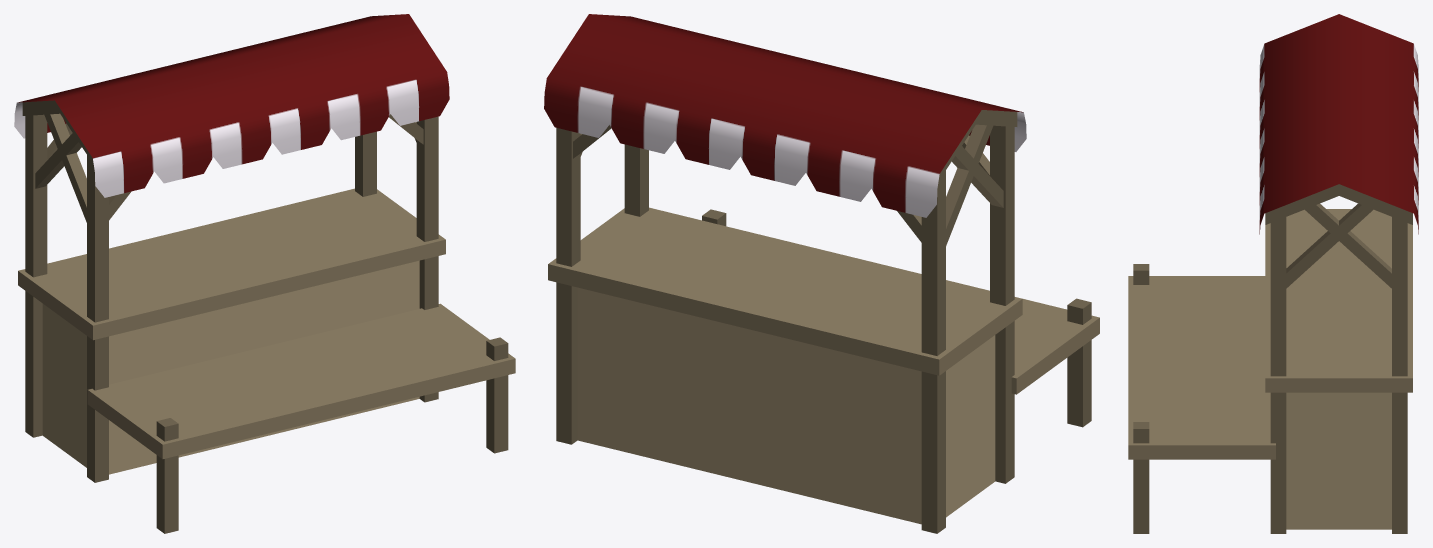
Rendered from VeggieStall.fbx.
The picture shows the model from 3 angles, left to right: view 1: azimuth 30°, elevation 25°; view 2: azimuth 150°, elevation 25°; view 3: azimuth 270°, elevation 25°; orthographic projection. The views are drawn at different scales.
Visible parts, largest first — view 1: VeggieStall, VeggieStall_Top; view 2: VeggieStall, VeggieStall_Top; view 3: VeggieStall, VeggieStall_Top.
Part boxes in pixels (x1,y1,x2,y2): VeggieStall: (18, 100, 515, 533); VeggieStall_Top: (14, 14, 449, 197); VeggieStall: (548, 110, 1099, 533); VeggieStall_Top: (544, 14, 1026, 217); VeggieStall: (1128, 184, 1412, 533); VeggieStall_Top: (1259, 14, 1418, 234).
Size of the model in its own units: 38.15 by 36.87 by 27.55.
4 materials, 1 textured.
